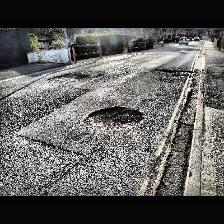pothole: (84, 106, 146, 130), (46, 72, 88, 82)
